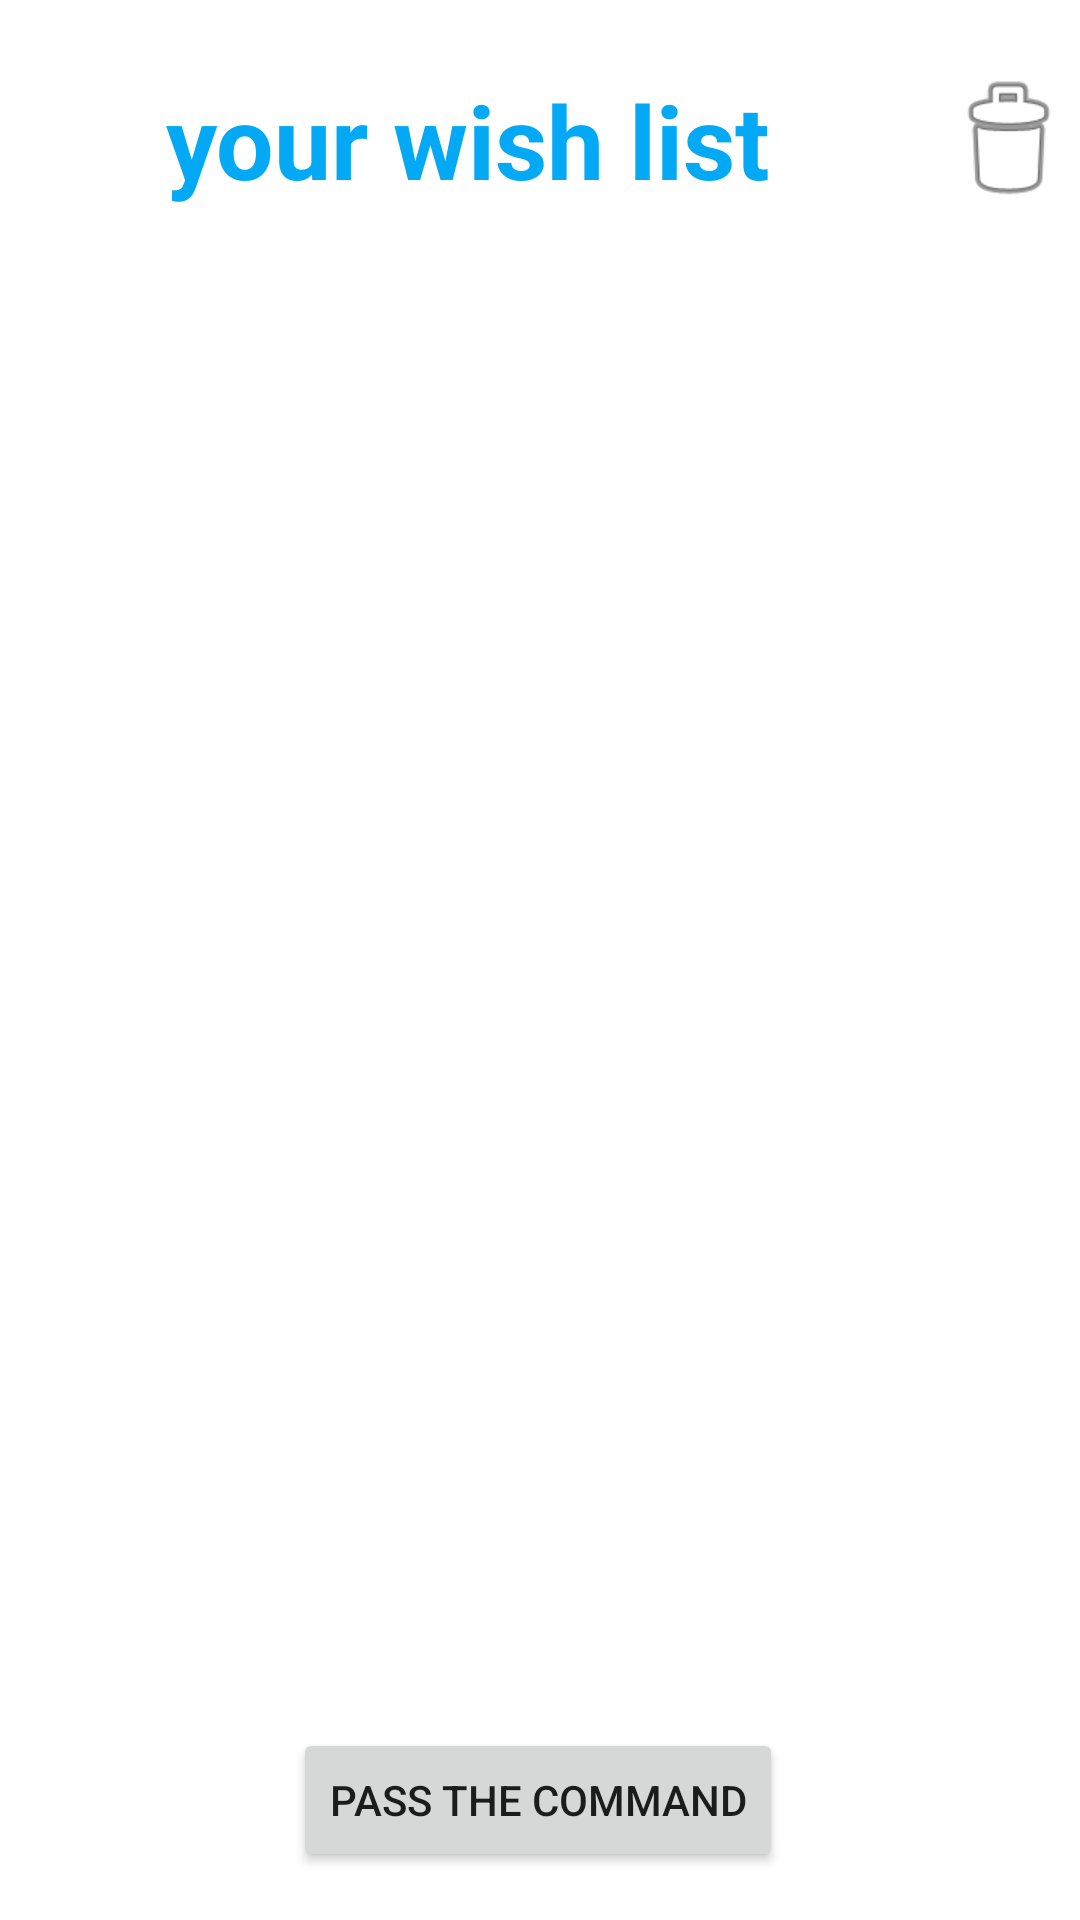

Icons on this 1080×1920 Android screen, each with its box as {"left": x1, "top": y1, "right": x2, "bottom": y2}:
delete all the items: {"left": 968, "top": 81, "right": 1050, "bottom": 194}
